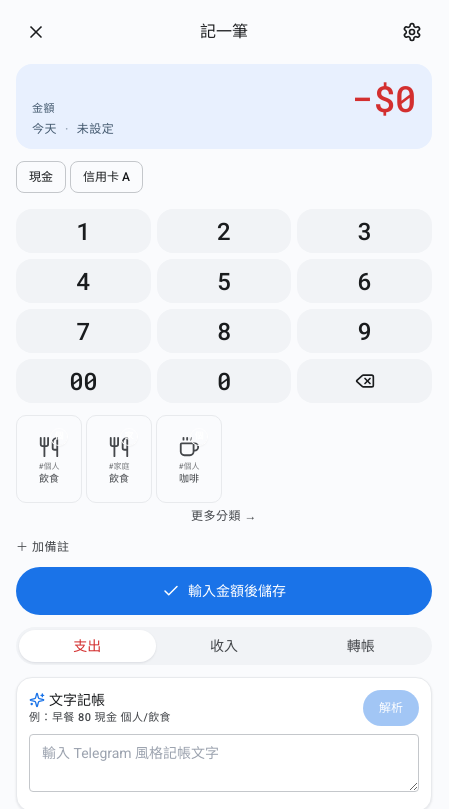
Test: QuickEntryPage (M3 v2.0) › one-tap submits when amount + payment method are set and a quick category is tapped
Expected: the button "個 #個人 飲食" is shown, [16,415,82,503]
Click the button "1" at (83, 231), box [16,209,151,253]
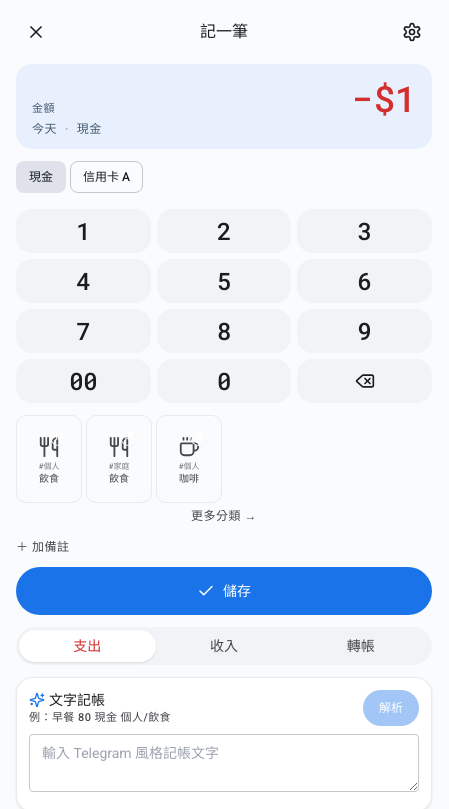
Click the button "2" at (224, 231), box [157,209,291,253]
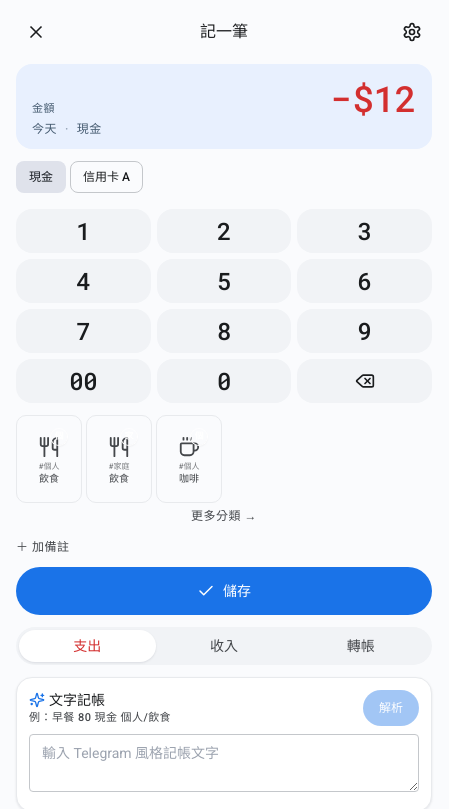
Click the button "3" at (365, 231), box [297,209,432,253]
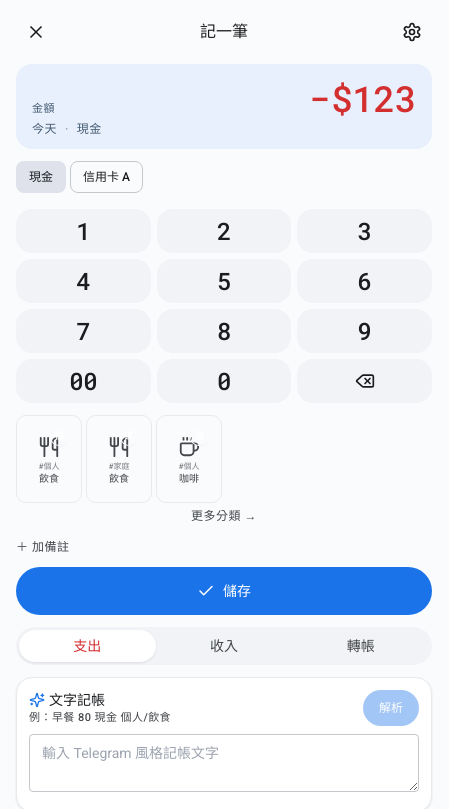
Click the button "個 #個人 飲食" at (49, 459), box [16,415,82,503]
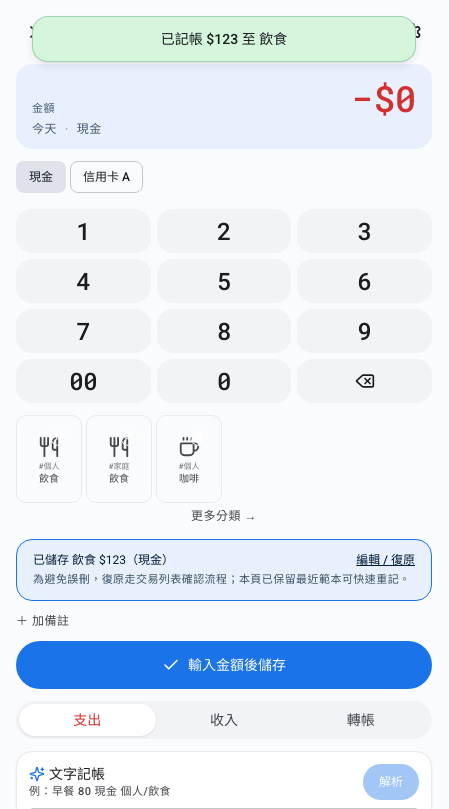
Result: the text "已記帳 $123 至 飲食" is shown at [161,29,287,49]
Result: the link "編輯 / 復原" is shown at [356,552,415,568]
Result: the text "−$0" is shown at [352,76,416,120]
